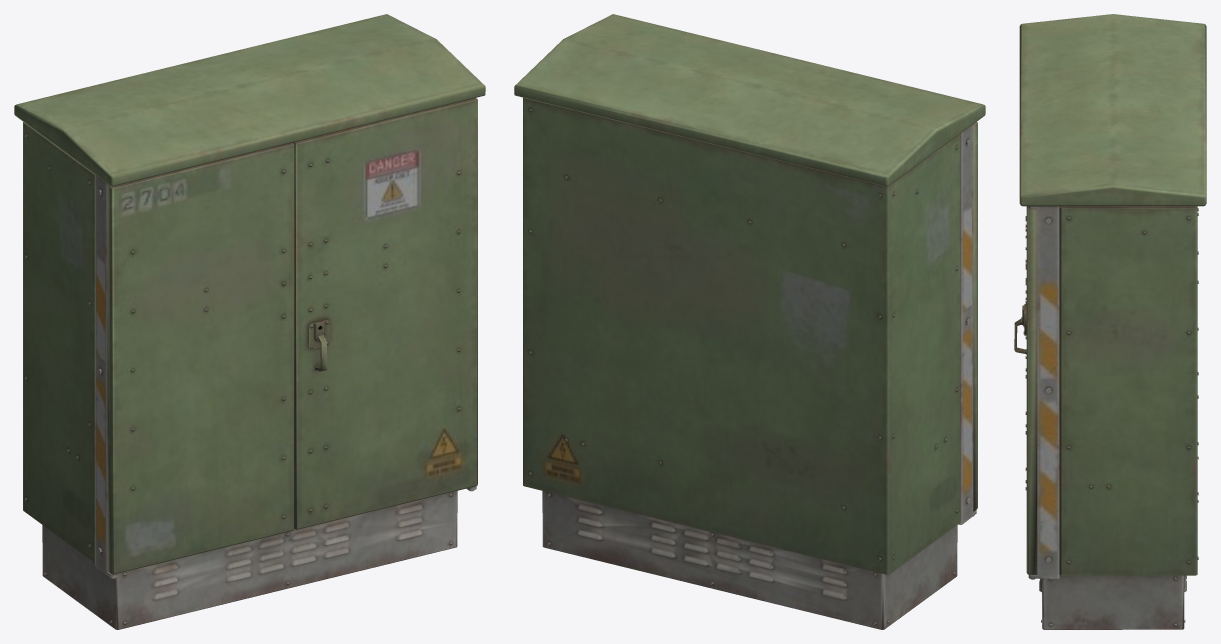
File: utility_box_b.glb
3 views of the same model, side by side, from view 1: azimuth 30°, elevation 25°; view 2: azimuth 150°, elevation 25°; view 3: azimuth 270°, elevation 25° (orthographic). The views are drawn at different scales.
Size of the model in its own units: 0.92 by 1.12 by 0.4319.
1 material, 1 textured.
